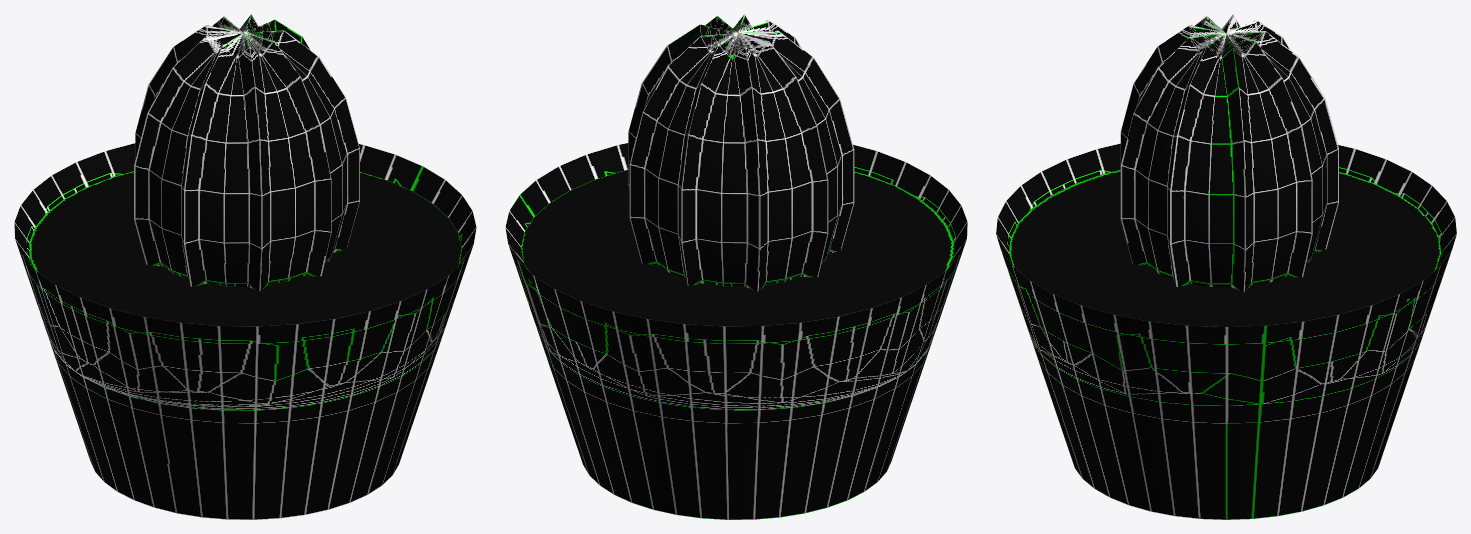
The model's file is Cactus.fbx.
The picture shows the model from 3 angles, left to right: view 1: azimuth 30°, elevation 25°; view 2: azimuth 150°, elevation 25°; view 3: azimuth 270°, elevation 25°; orthographic projection.
Visible parts, largest first — view 1: Cactus; view 2: Cactus; view 3: Cactus.
Part boxes in pixels (x1,y1,x2,y2): Cactus: [14, 14, 476, 519]; Cactus: [505, 14, 967, 519]; Cactus: [996, 14, 1456, 519].
Size of the model in its own units: 29.8 by 30.19 by 29.83.
